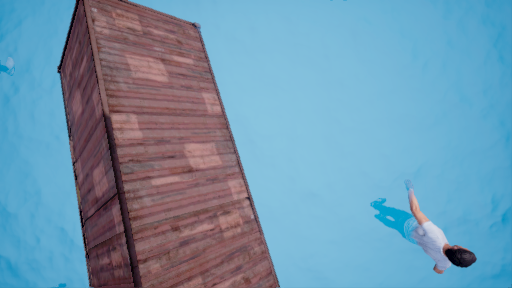person: (362, 177, 477, 279)
